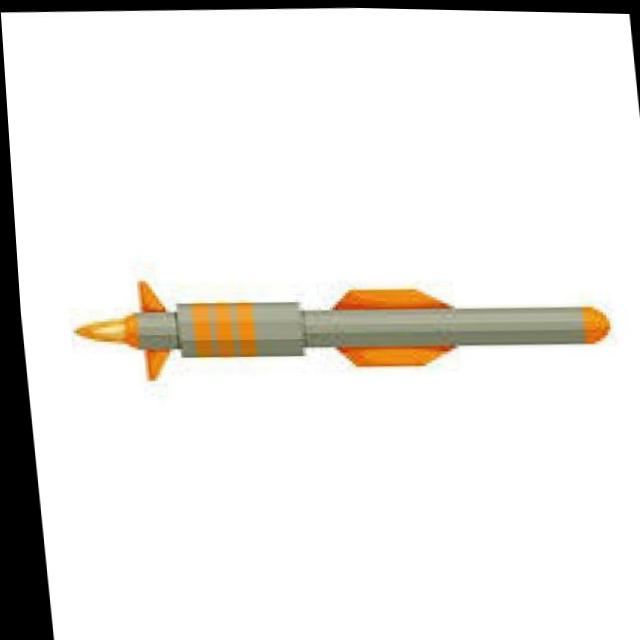missile: (64, 258, 612, 401)
